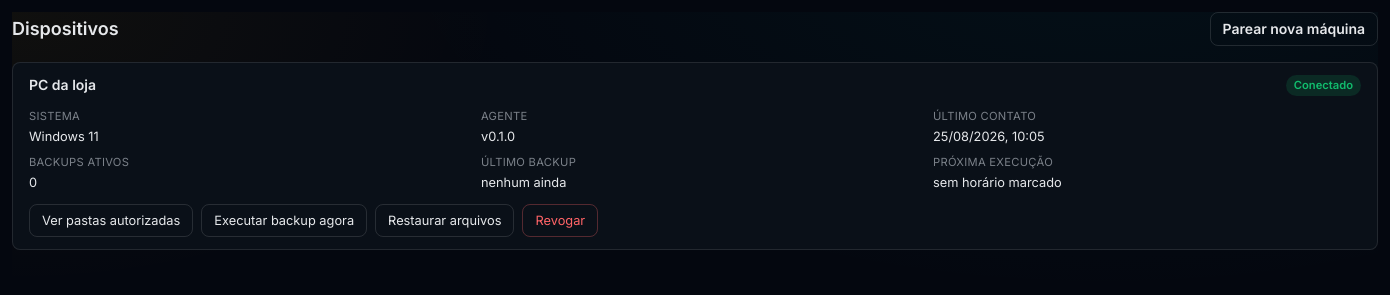
Scenario: Dispositivos › avisa quando o dispositivo não tem pasta autorizada
This screenshot has width=1390, height=295.
Check: the text "PC da loja" is shown, box [29,75,96,95]
Step 1. Click the button "Ver pastas autorizadas" → (111, 220), box [29,204,193,237]
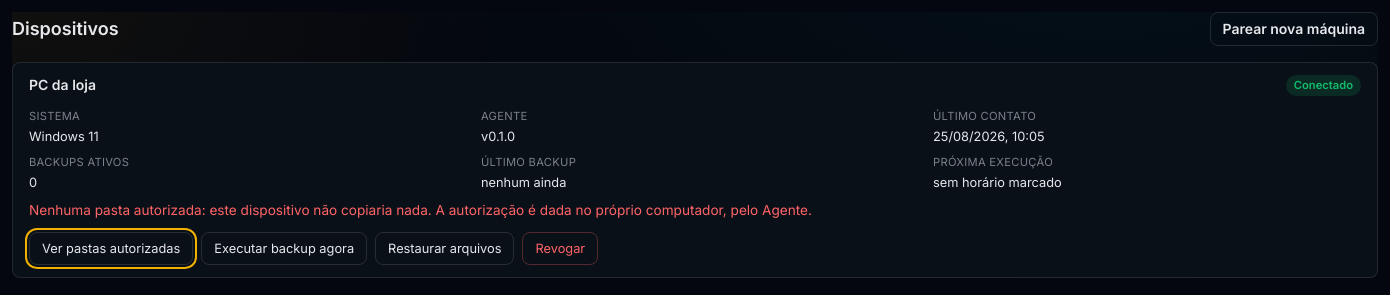
Check: the text "no próprio computador" is shown, box [29,202,812,218]
